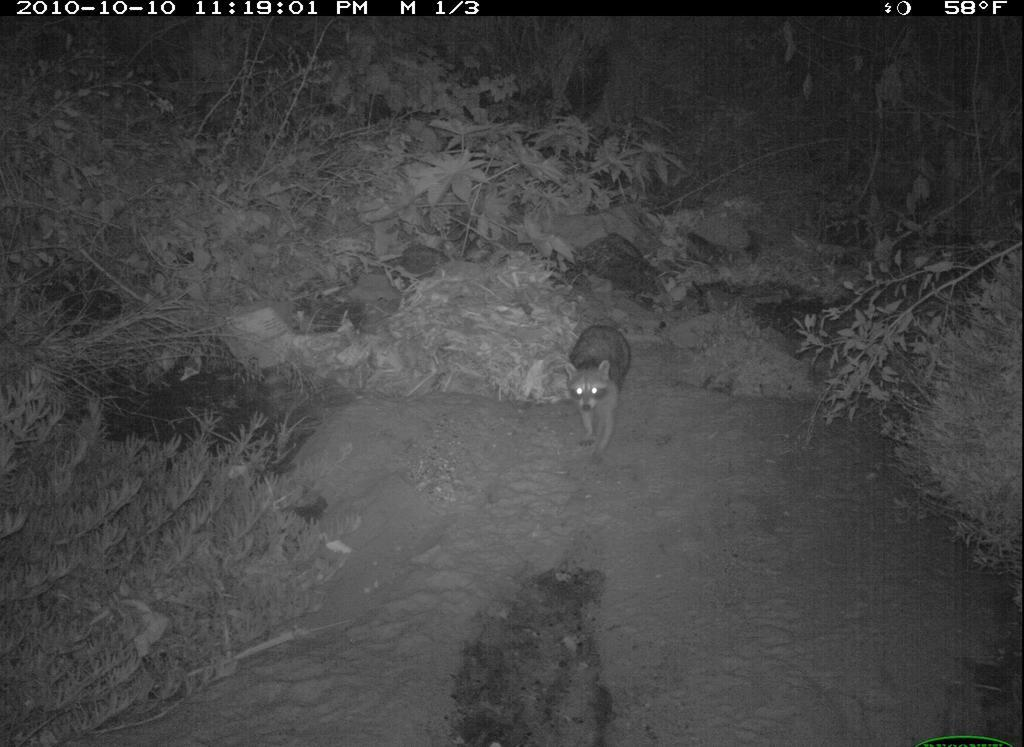raccoon: (555, 321, 643, 465)
